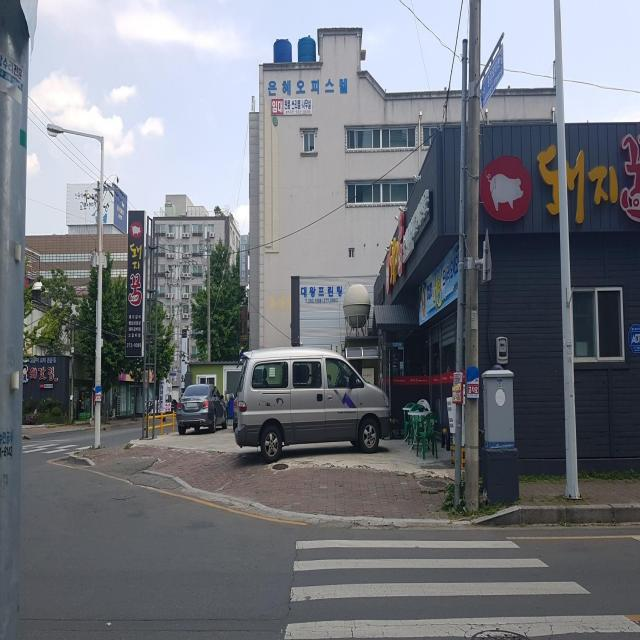횡단보도: (282, 535, 639, 640), (23, 439, 95, 464)
